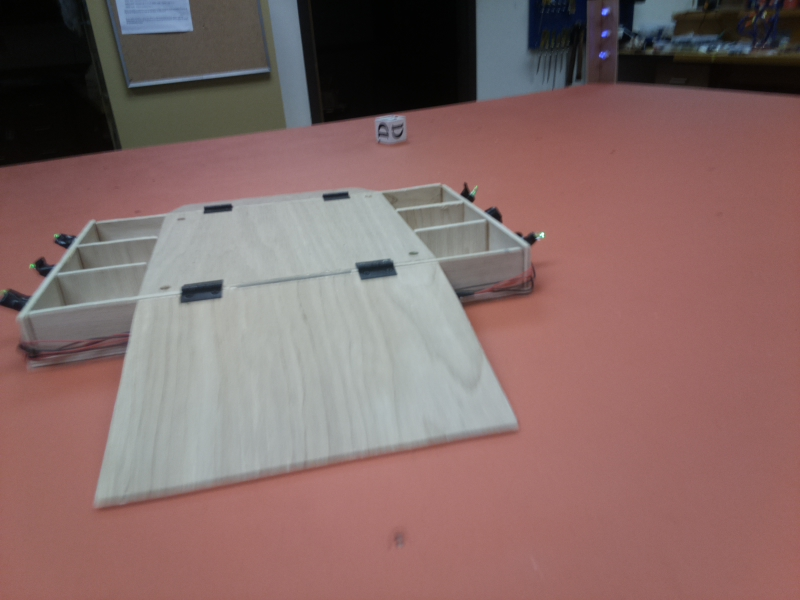blockD: (372, 113, 408, 146)
side: (442, 173, 548, 279), (4, 216, 102, 330)
slope: (83, 260, 520, 513), (165, 190, 383, 211)
